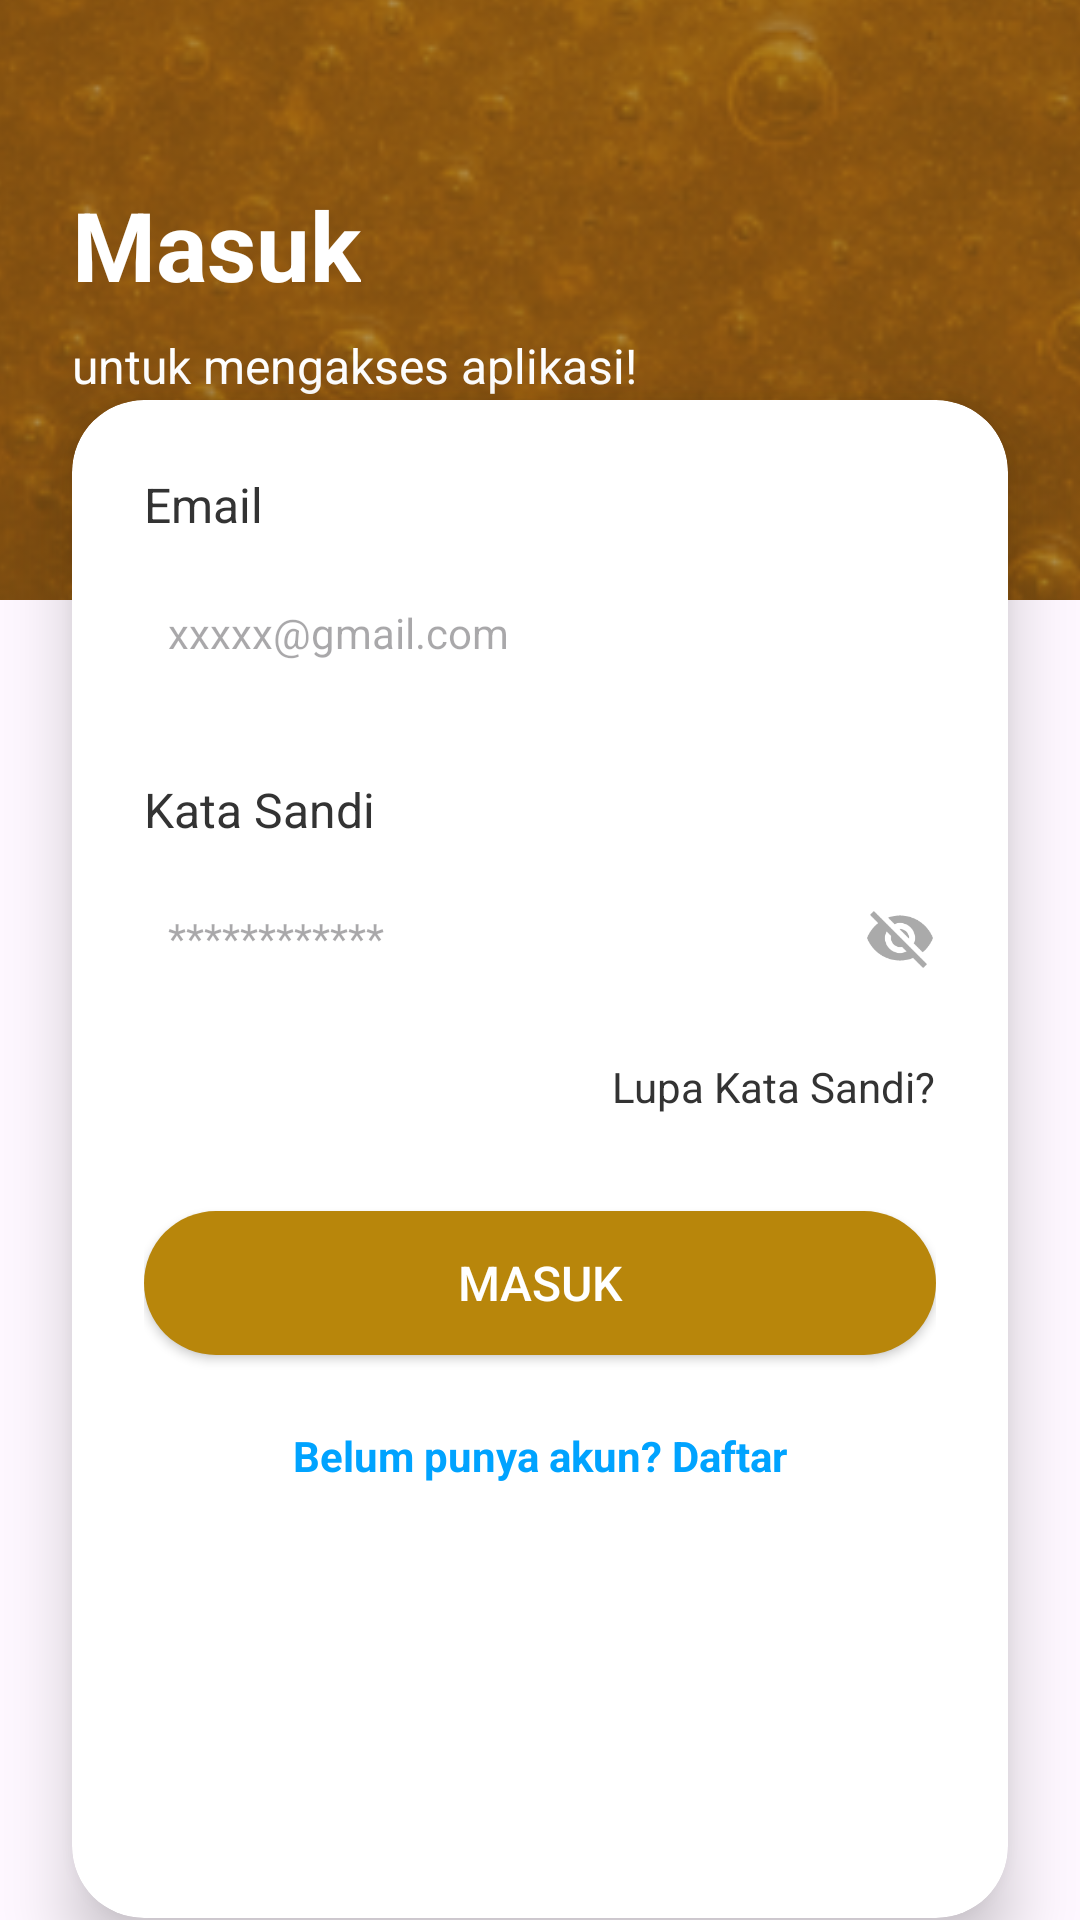

Icons on this 1080w x 1920h Android screen, each with the point to tap as (x,y):
visibility off: (900,939)
